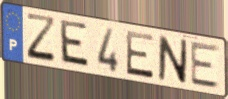4: (95, 26, 120, 74)
E: (59, 18, 91, 71), (124, 29, 155, 81), (189, 41, 221, 91)
N: (157, 34, 189, 87)
Z: (25, 12, 58, 66)
